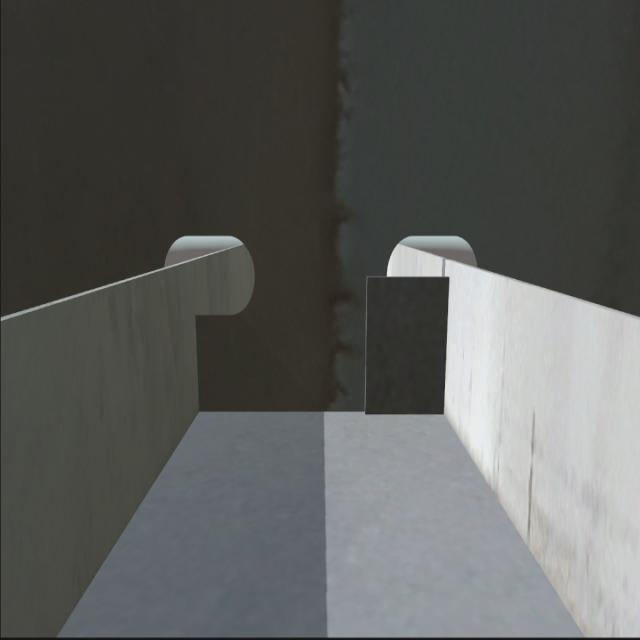fillet_yong_jeop_jang: (198, 398, 450, 424)
longi_yong_jeop_jang: (438, 271, 454, 416), (190, 313, 209, 410)
plate_CP01: (368, 274, 446, 412)
